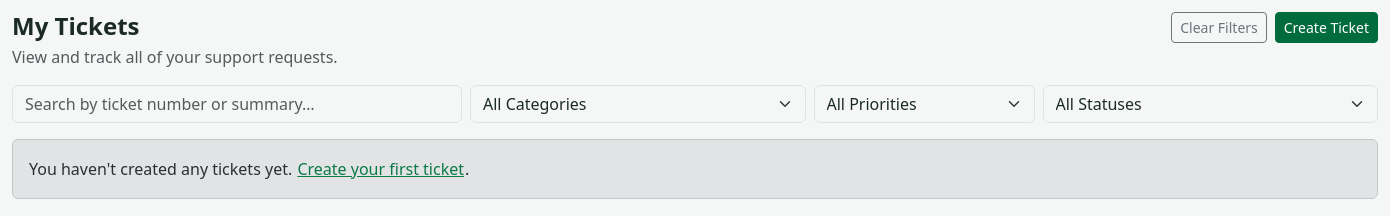
it: MyTicketsList › shows a distinct no-results state when a search matches nothing (AC-10)
The image size is (1390, 216).
Expected: the message shows "You haven't created any tickets yet.", [29,158,292,180]
In the search field named "Search tickets": (237,104) [12,85,462,123], type "nothing matches this"
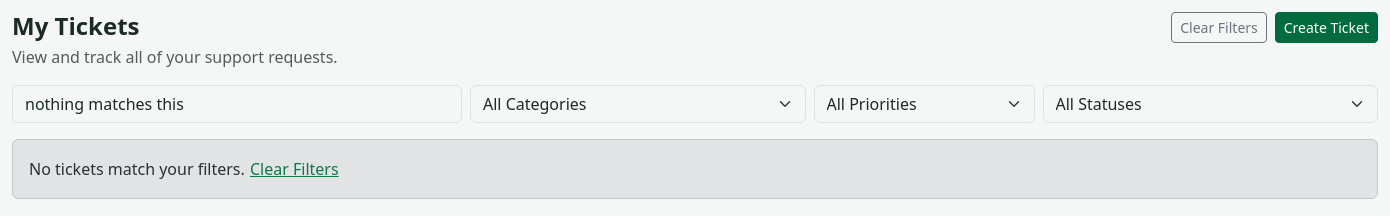
Expected: the message shows "No tickets match your filters.", [29,158,245,180]
